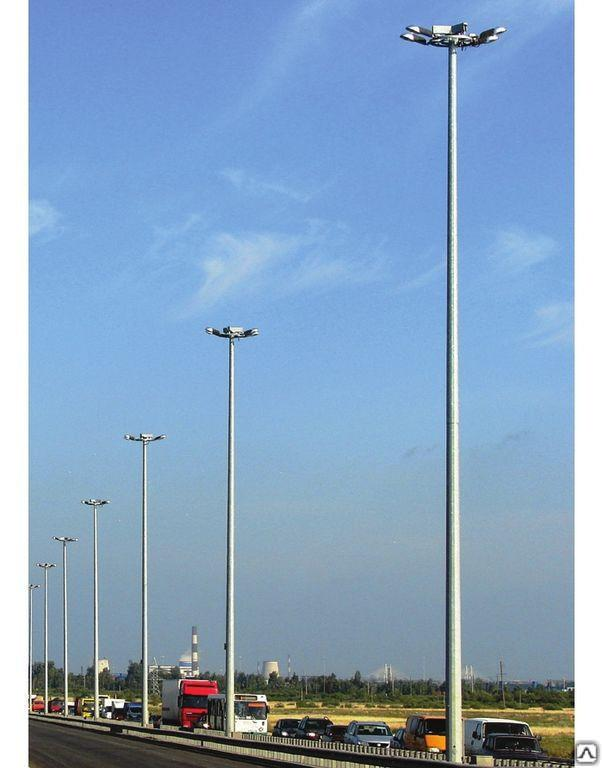Animal: (400, 20, 530, 767), (199, 307, 264, 751), (120, 419, 169, 727), (80, 484, 120, 727), (44, 514, 88, 709)
